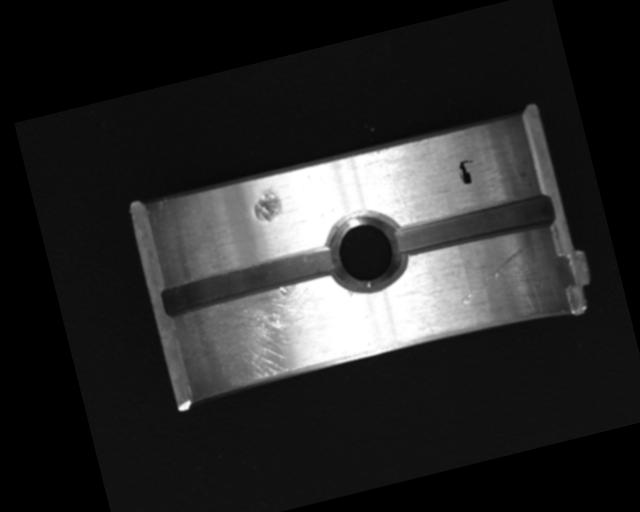blot: (455, 157, 479, 187)
bruise: (248, 183, 285, 225)
gap: (156, 242, 342, 321), (394, 190, 556, 260)
hole: (322, 204, 415, 299)
nick: (451, 243, 540, 306)
scratch: (179, 273, 359, 400)
